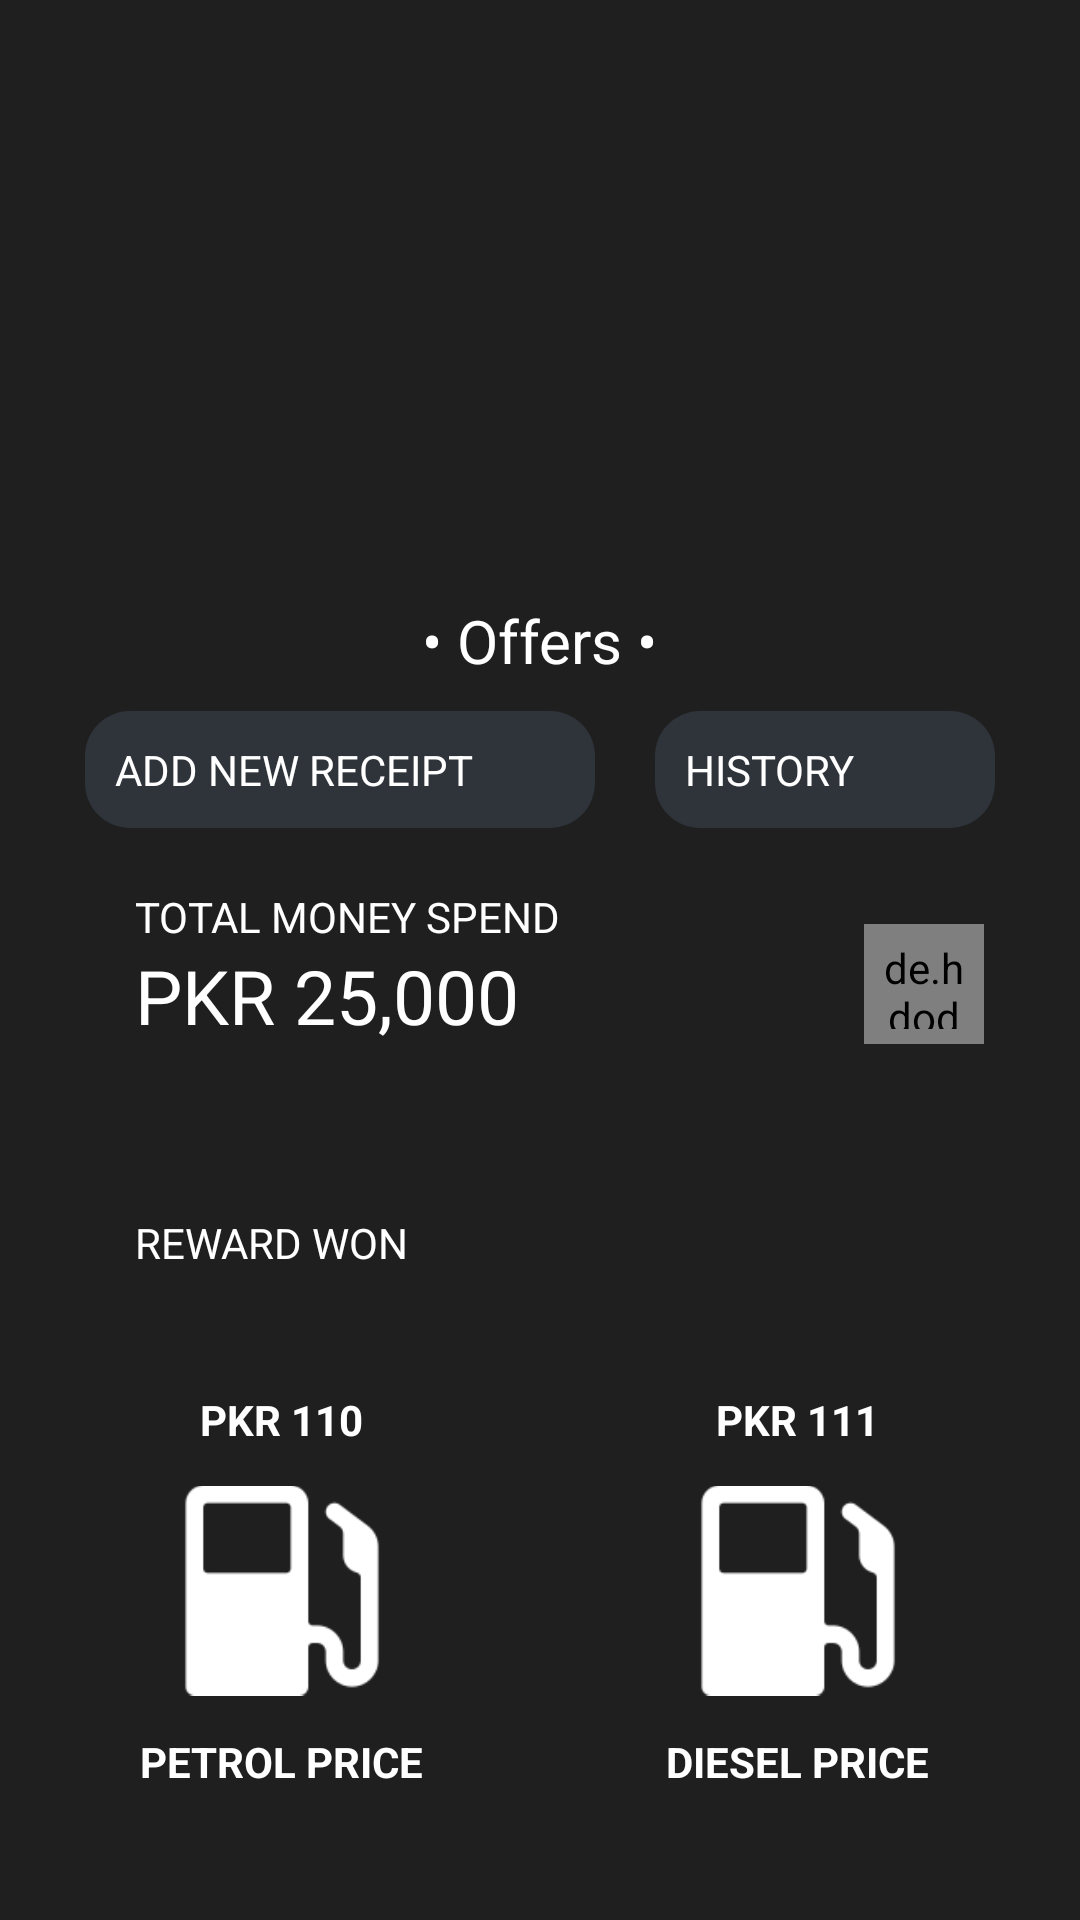

Locate icon controls on the screen. Image size 1080px x 1920px, boxes as region(x1, y1, x2, y2).
petrol station: region(185, 1486, 379, 1696), region(701, 1486, 895, 1696)
